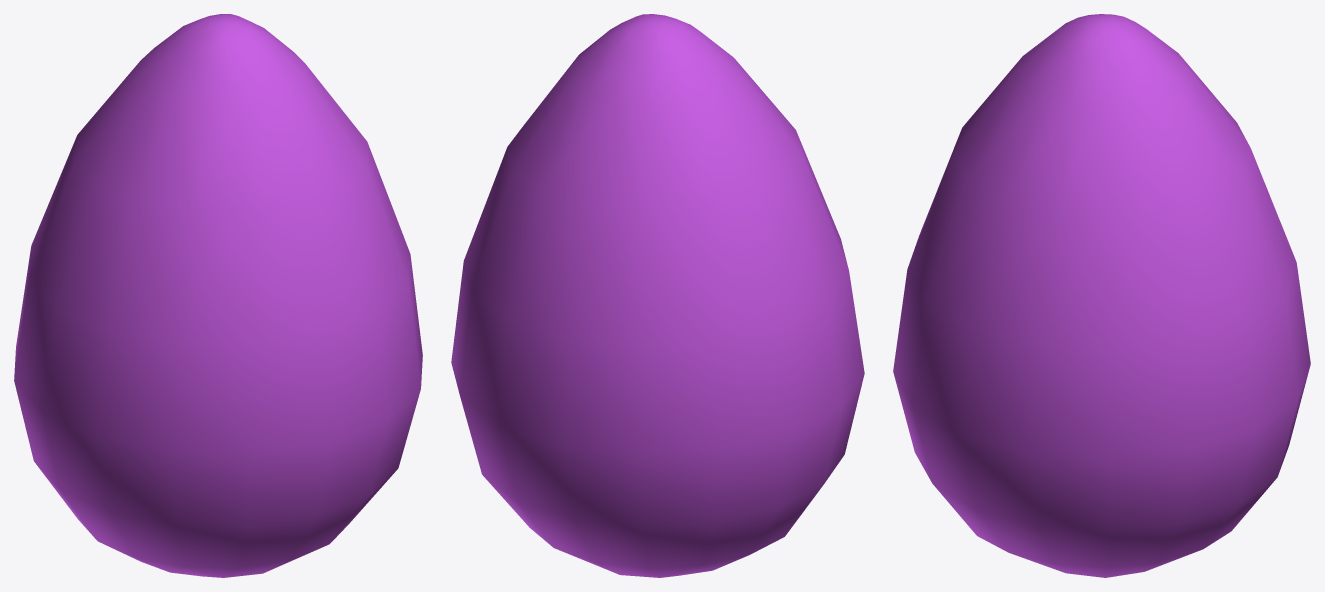
File: egg.FBX
3 renders of one model, left to right at view 1: azimuth 30°, elevation 25°; view 2: azimuth 150°, elevation 25°; view 3: azimuth 270°, elevation 25°, orthographic.
Visible parts, largest first — view 1: Sphere002; view 2: Sphere002; view 3: Sphere002.
Boxes of the visible parts, left/top/right/bottom form: Sphere002: left=14, top=14, right=422, bottom=577; Sphere002: left=451, top=14, right=864, bottom=577; Sphere002: left=893, top=14, right=1310, bottom=577.
Size of the model in its own units: 62.35 by 89.11 by 62.2.
